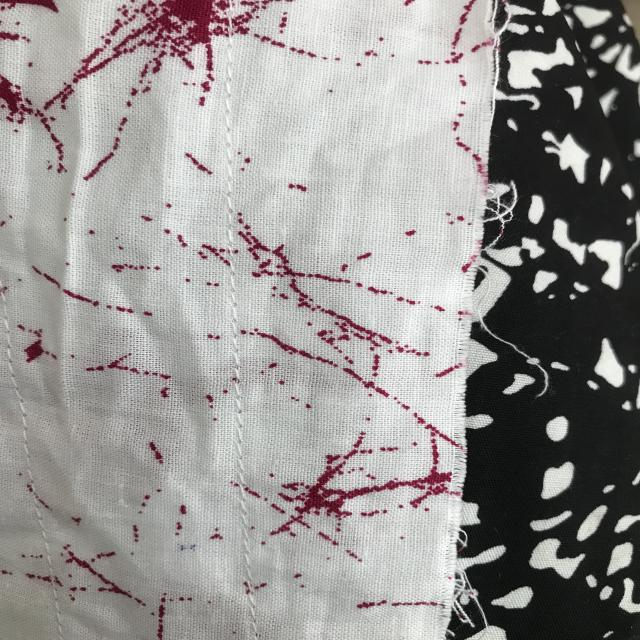good: (18, 519, 85, 626), (222, 302, 263, 470), (5, 398, 62, 497), (232, 493, 273, 630), (222, 66, 248, 192)
